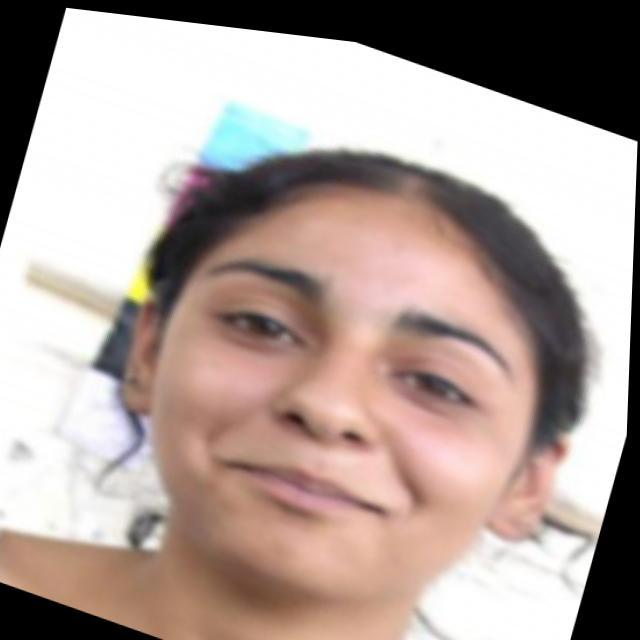Nonhelmet: (116, 120, 574, 612)
